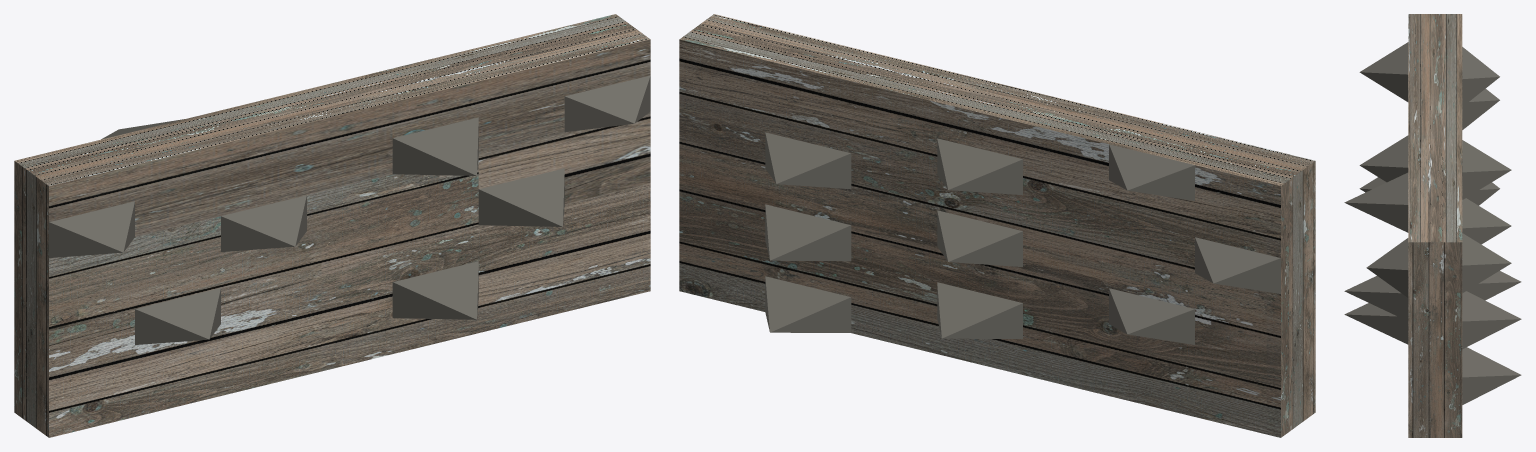
The model's file is Spike Wall.fbx.
The picture shows the model from 3 angles, left to right: view 1: azimuth 30°, elevation 25°; view 2: azimuth 150°, elevation 25°; view 3: azimuth 270°, elevation 25°; orthographic projection. The views are drawn at different scales.
Visible parts, largest first — view 1: Spike Wall; view 2: Spike Wall; view 3: Spike Wall.
Boxes of the visible parts, left/top/right/bottom form: Spike Wall: left=14, top=14, right=650, bottom=437; Spike Wall: left=679, top=14, right=1315, bottom=437; Spike Wall: left=1344, top=14, right=1521, bottom=437.
Size of the model in its own units: 1250 by 500 by 411.
Materials: 2 (1 with a texture image).
